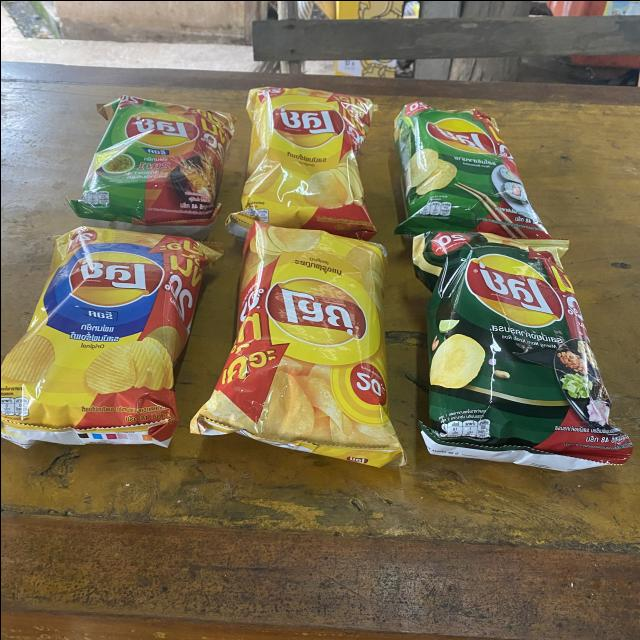plastik: (411, 230, 631, 470), (190, 221, 404, 465), (0, 225, 222, 446), (68, 94, 233, 239), (225, 86, 375, 239), (394, 99, 550, 238)
